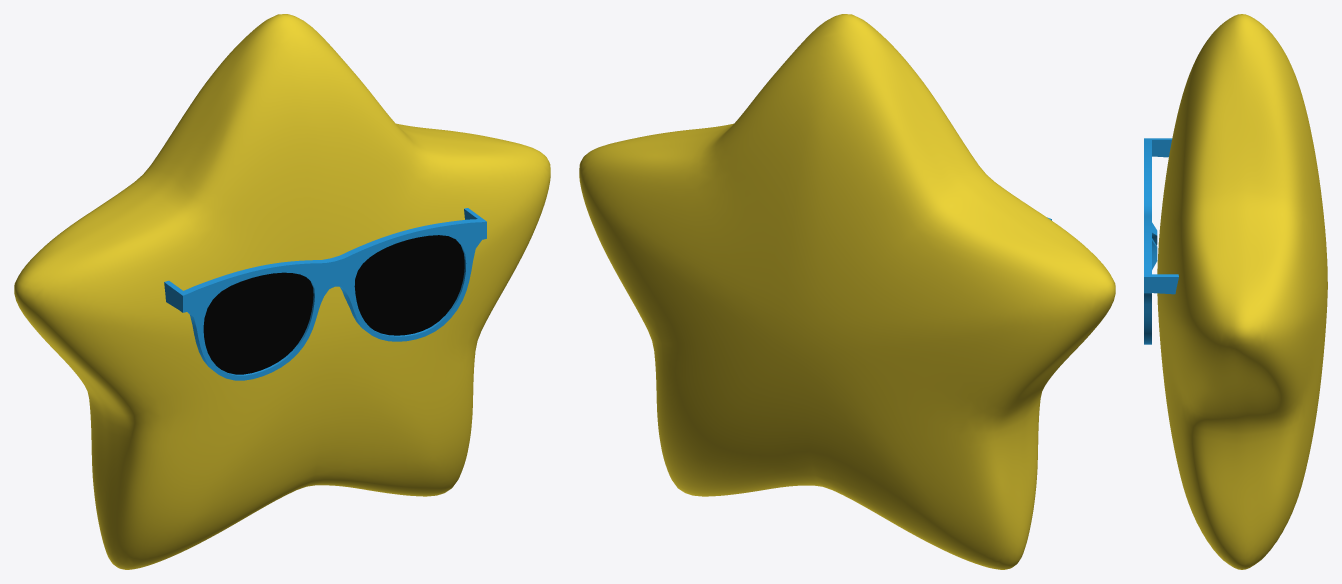
The model's file is Star.fbx.
3 views of the same model, side by side, from view 1: azimuth 30°, elevation 25°; view 2: azimuth 150°, elevation 25°; view 3: azimuth 270°, elevation 25° (orthographic). The views are drawn at different scales.
Visible parts, largest first — view 1: star; view 2: star; view 3: star.
Part boxes in pixels (x1,y1,x2,y2): star: (14,14,550,569); star: (579,14,1115,569); star: (1144,14,1327,569).
Bounding box in the file's own units: 22.79 × 21.13 × 7.31.
